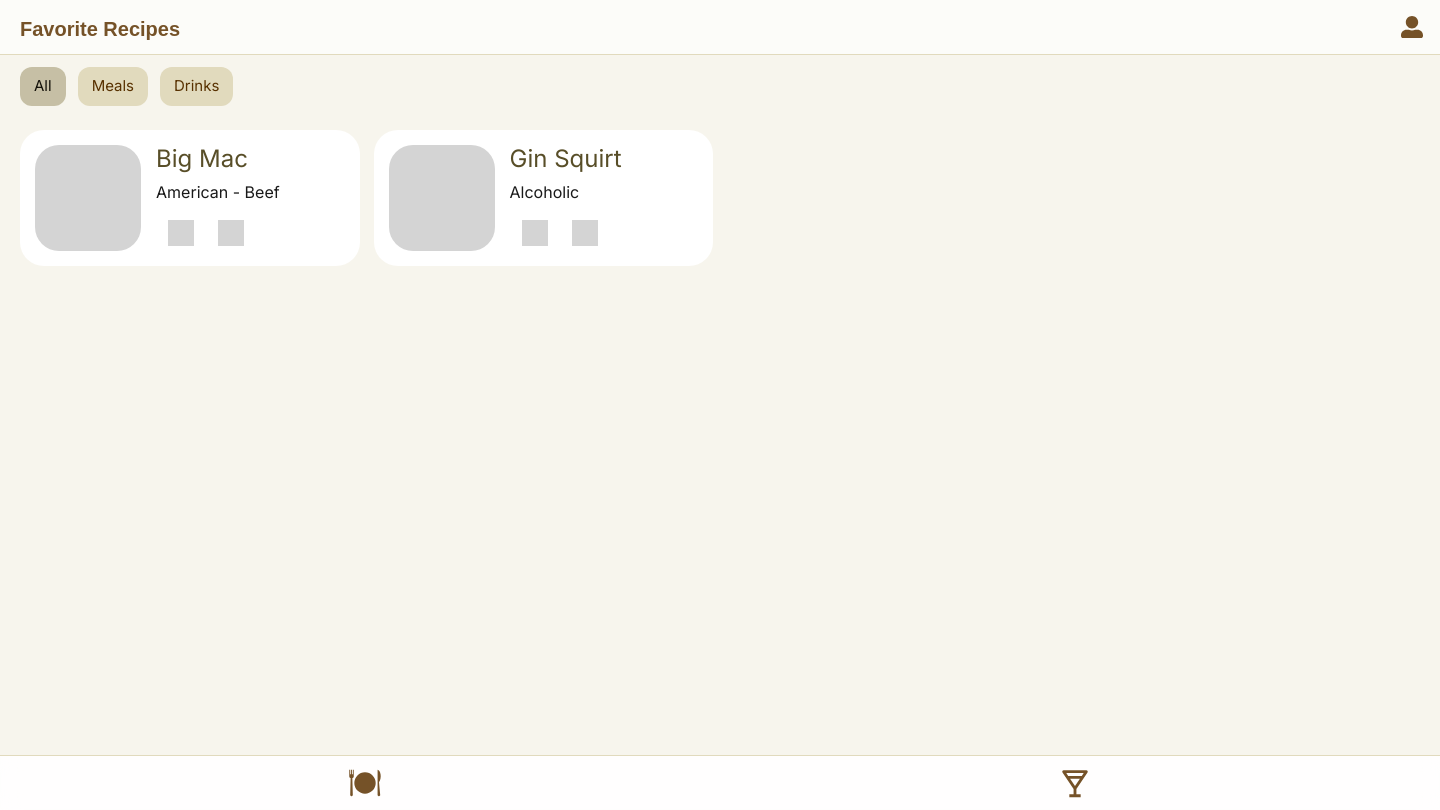
Testando o componente FavoriteRecipes › É possível remover uma receita dos favoritos ao clicar no botão toggleFavorite
This screenshot has width=1440, height=810.
Check: the number of elements with class "favorite-recipe-card" is 2, box left=20, top=130, right=360, bottom=266; left=374, top=130, right=713, bottom=266
What coordinates should you click on to do the following:
click the button with test id "horizontal-favorite-btn"
I would click on:
 (231, 233)
Its box is left=206, top=213, right=256, bottom=252.
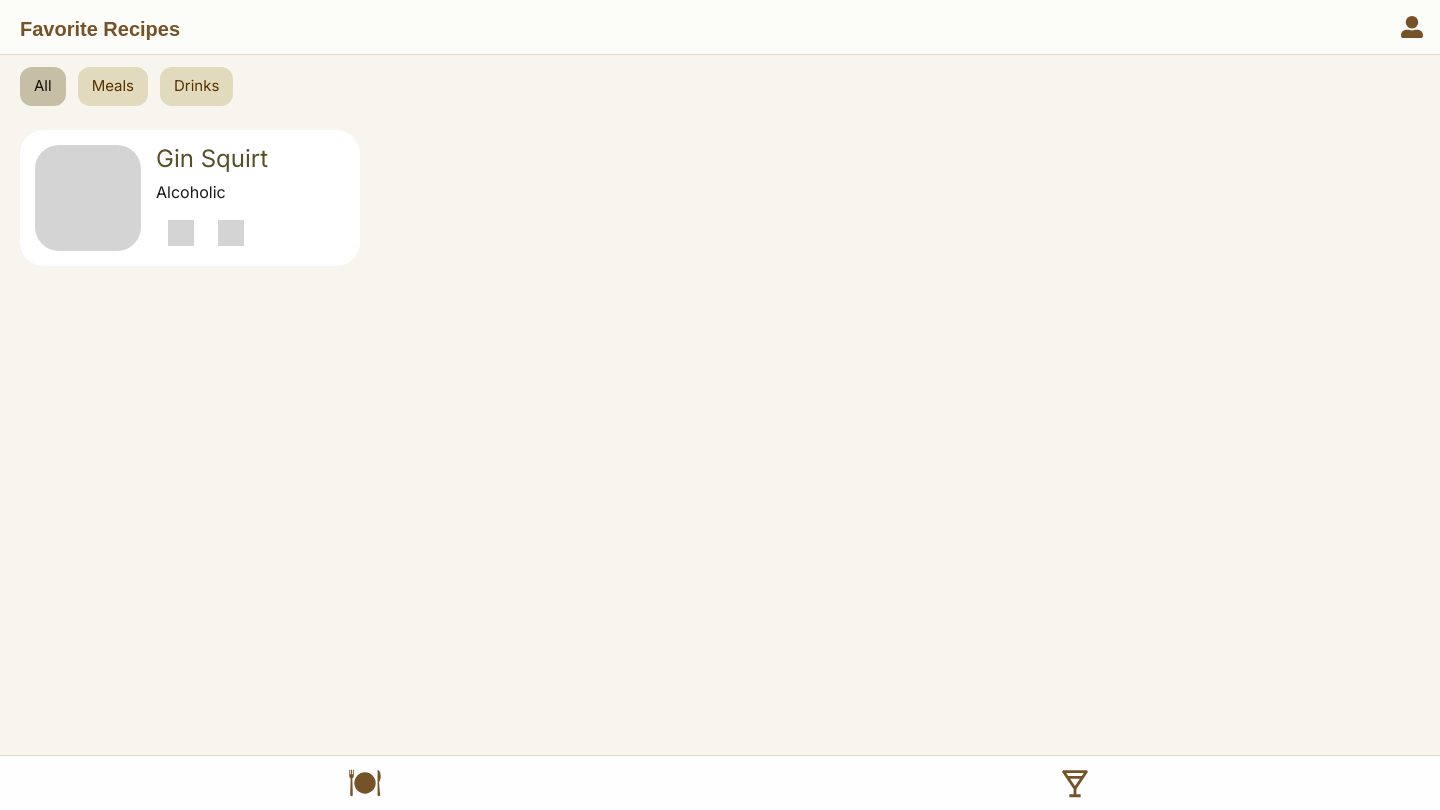
Check: the number of elements with class "favorite-recipe-card" is 1, box left=20, top=130, right=360, bottom=266
